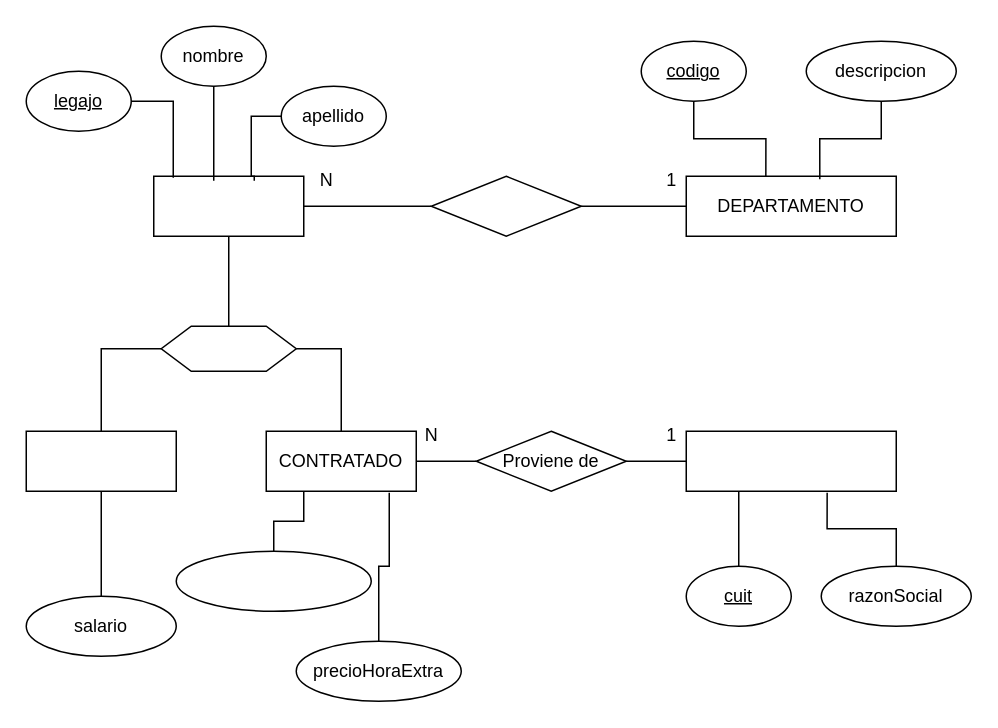
The diagram is 998 pixels wide and 728 high, and some of its shapes have lost their labels. The centre of each missing label's shape, as x and y in pixels:
"CONSULTORA" goes at [790,460].
"Contrato" goes at [228,348].
"EFECTIVO" goes at [100,460].
"EMPLEADO" goes at [228,205].
"precioHoraComun" goes at [273,580].
"Trabaja en" goes at [505,205].
